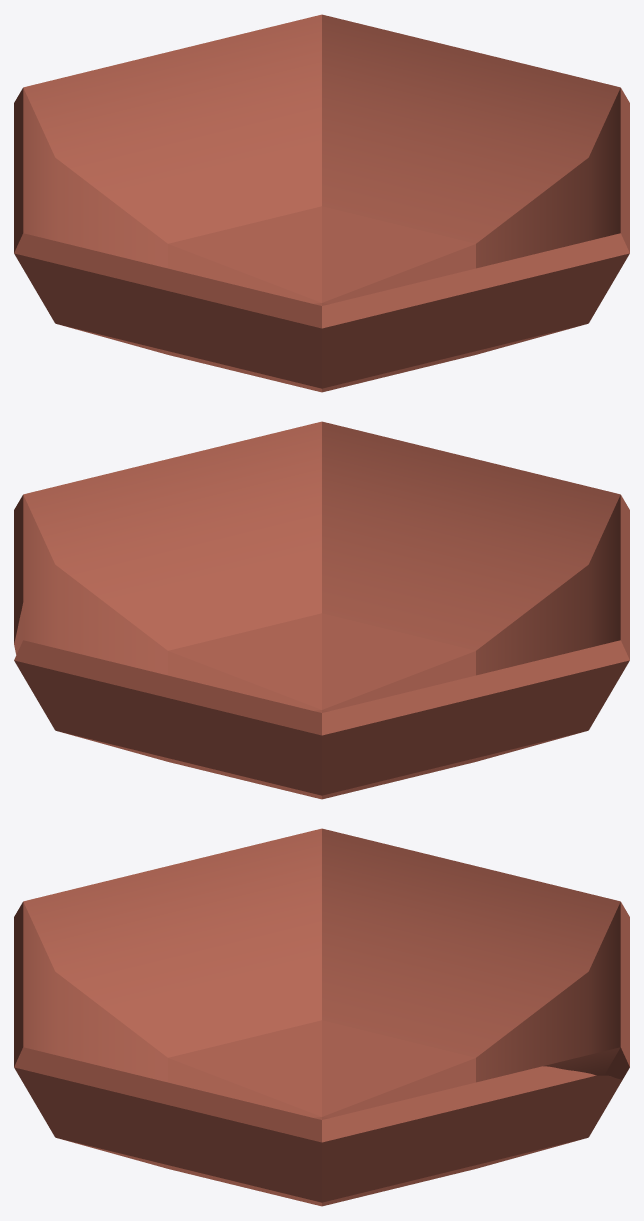
The model's file is Bowl_Mesh.fbx.
3 views of the same model, one above another, from view 1: azimuth 30°, elevation 25°; view 2: azimuth 150°, elevation 25°; view 3: azimuth 270°, elevation 25° (orthographic).
Parts seen in each view (by area): view 1: pSphere33; view 2: pSphere33; view 3: pSphere33.
Part boxes in pixels (left/top/right/bottom): pSphere33: left=14, top=14, right=629, bottom=392; pSphere33: left=14, top=421, right=629, bottom=799; pSphere33: left=14, top=828, right=629, bottom=1206.
Size of the model in its own units: 9.62 by 2.34 by 8.33.
